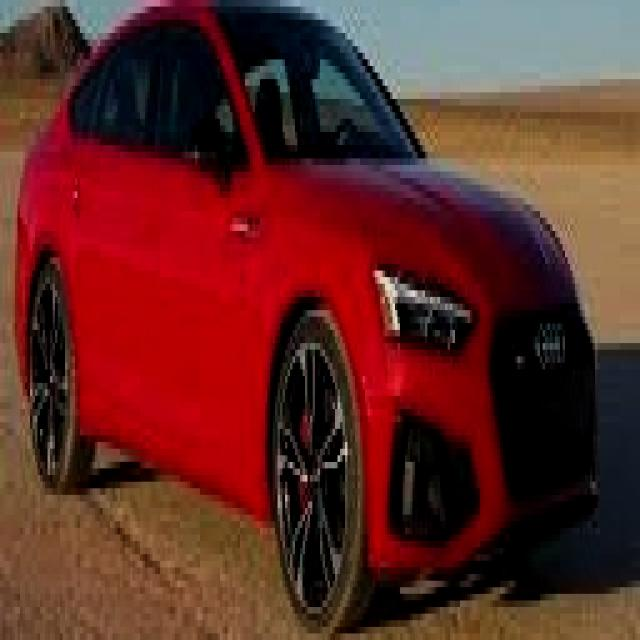red: (22, 5, 601, 584)
